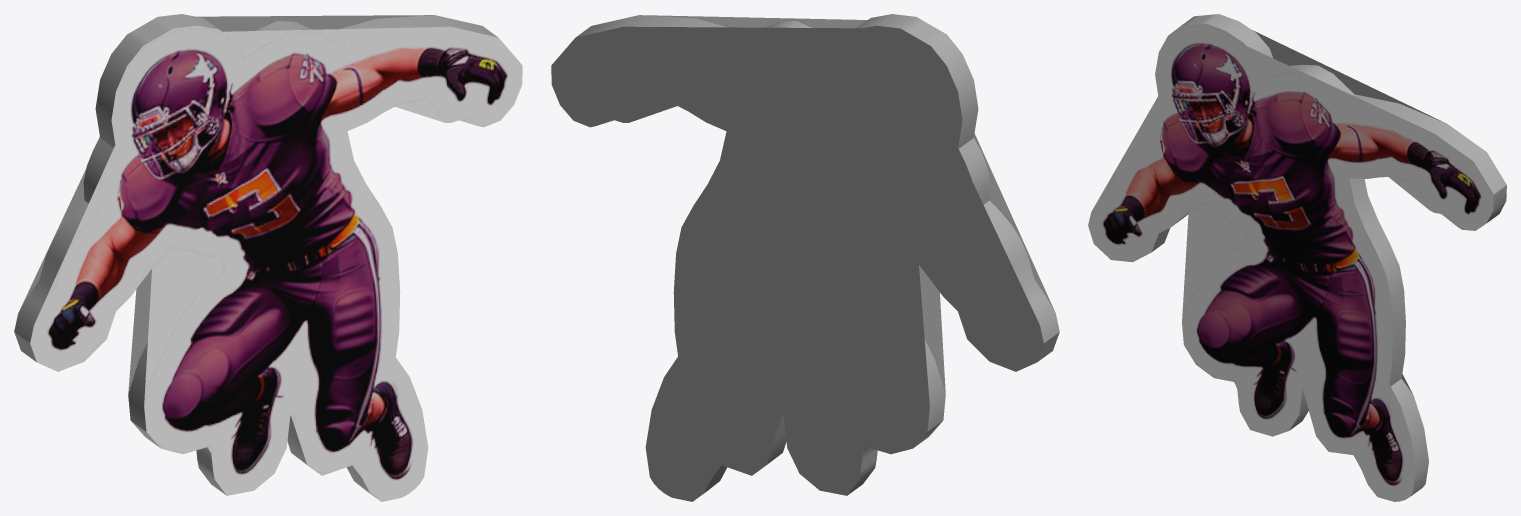
File: Enemy.fbx
3 renders of one model, left to right at view 1: azimuth 30°, elevation 25°; view 2: azimuth 150°, elevation 25°; view 3: azimuth 330°, elevation 25°, orthographic. The views are drawn at different scales.
Visible parts, largest first — view 1: enemy; view 2: enemy; view 3: enemy.
Boxes of the visible parts, bbox=[...] form: enemy: bbox=[14, 14, 522, 501]; enemy: bbox=[551, 14, 1059, 501]; enemy: bbox=[1088, 14, 1506, 501].
Size of the model in its own units: 1.37 by 1.4 by 0.0769.
